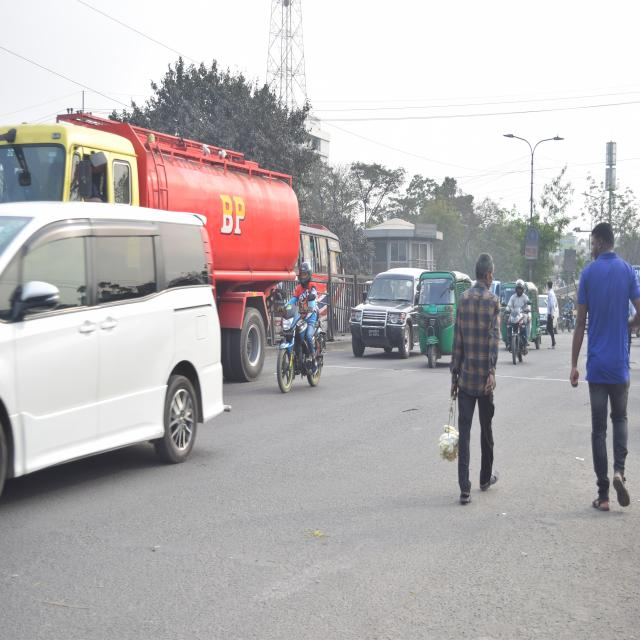car: (348, 266, 418, 356)
microbus: (0, 196, 224, 481)
motorbike: (270, 292, 324, 407), (506, 305, 528, 368), (557, 301, 577, 333)
truck: (20, 113, 284, 368)
